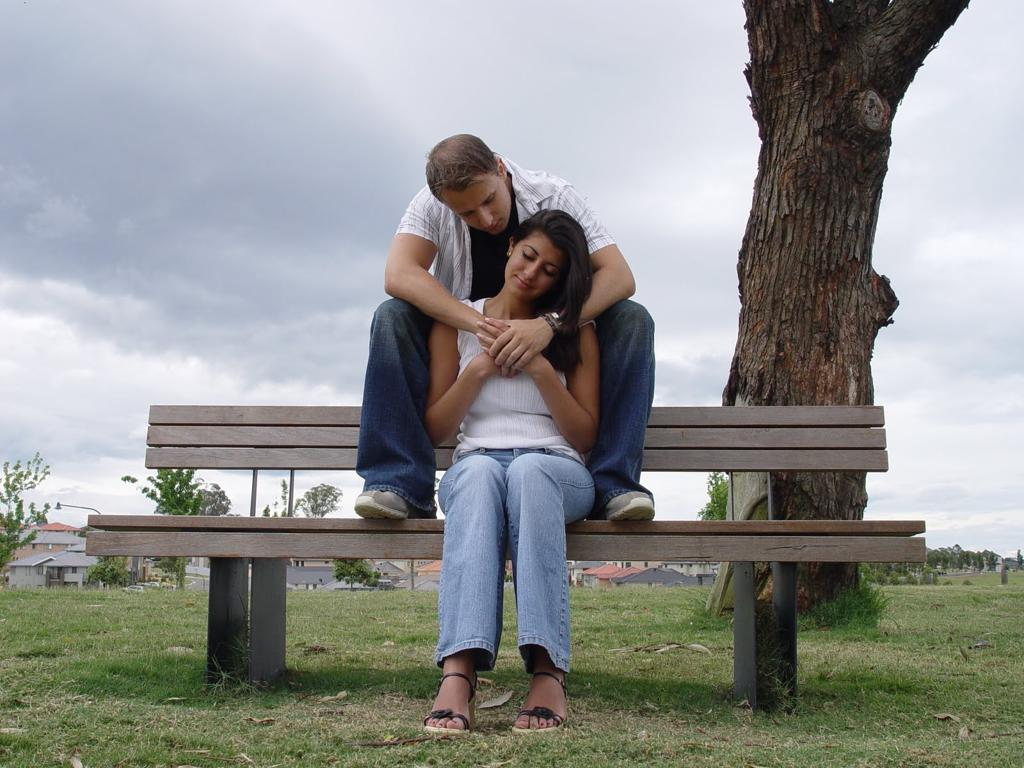face: (450, 172, 512, 236), (508, 236, 560, 302)
